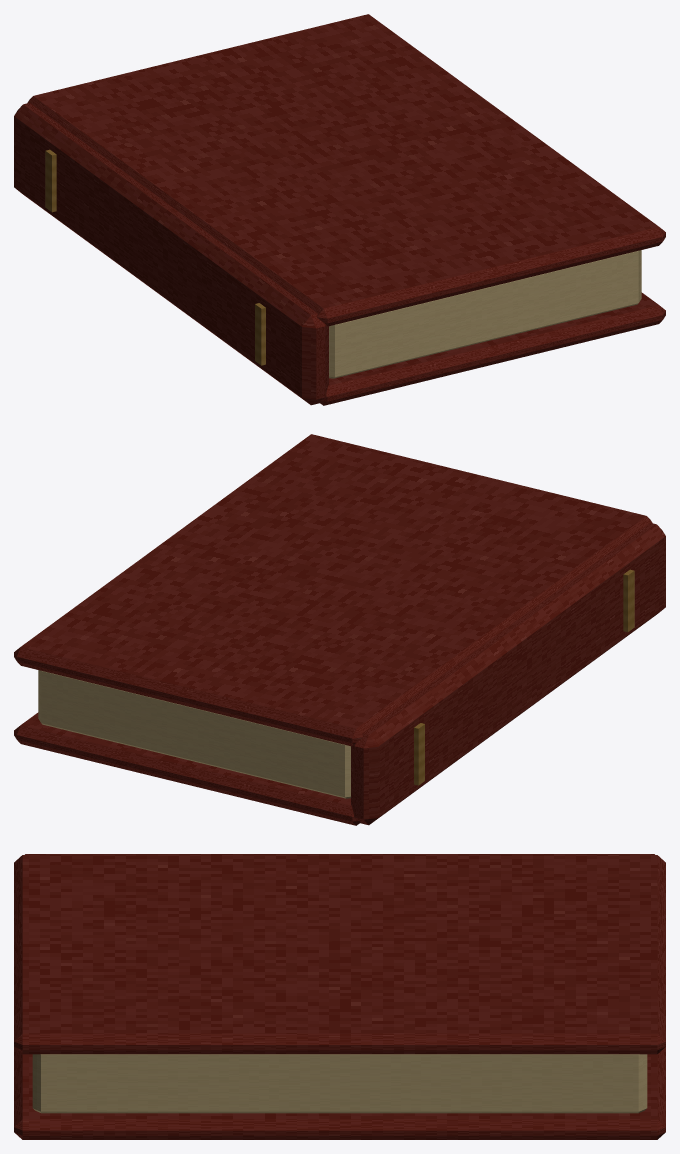
The model's file is level_loose_book.glb.
3 renders of one model, top to bottom at view 1: azimuth 30°, elevation 25°; view 2: azimuth 150°, elevation 25°; view 3: azimuth 270°, elevation 25°, orthographic. The views are drawn at different scales.
Parts seen in each view (by area): view 1: level_loose_book; view 2: level_loose_book; view 3: level_loose_book.
Boxes of the visible parts, left/top/right/bottom form: level_loose_book: left=14, top=14, right=665, bottom=405; level_loose_book: left=14, top=434, right=665, bottom=825; level_loose_book: left=14, top=854, right=665, bottom=1139.
Size of the model in its own units: 0.162 by 0.041 by 0.228.
Materials: 3 (3 with a texture image).
